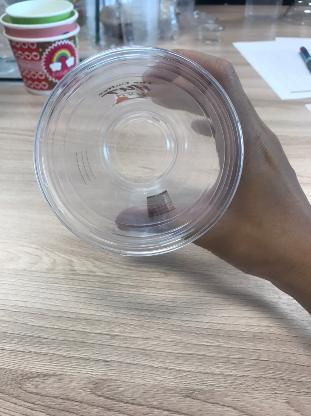Plastic Cup: (26, 40, 246, 258)
